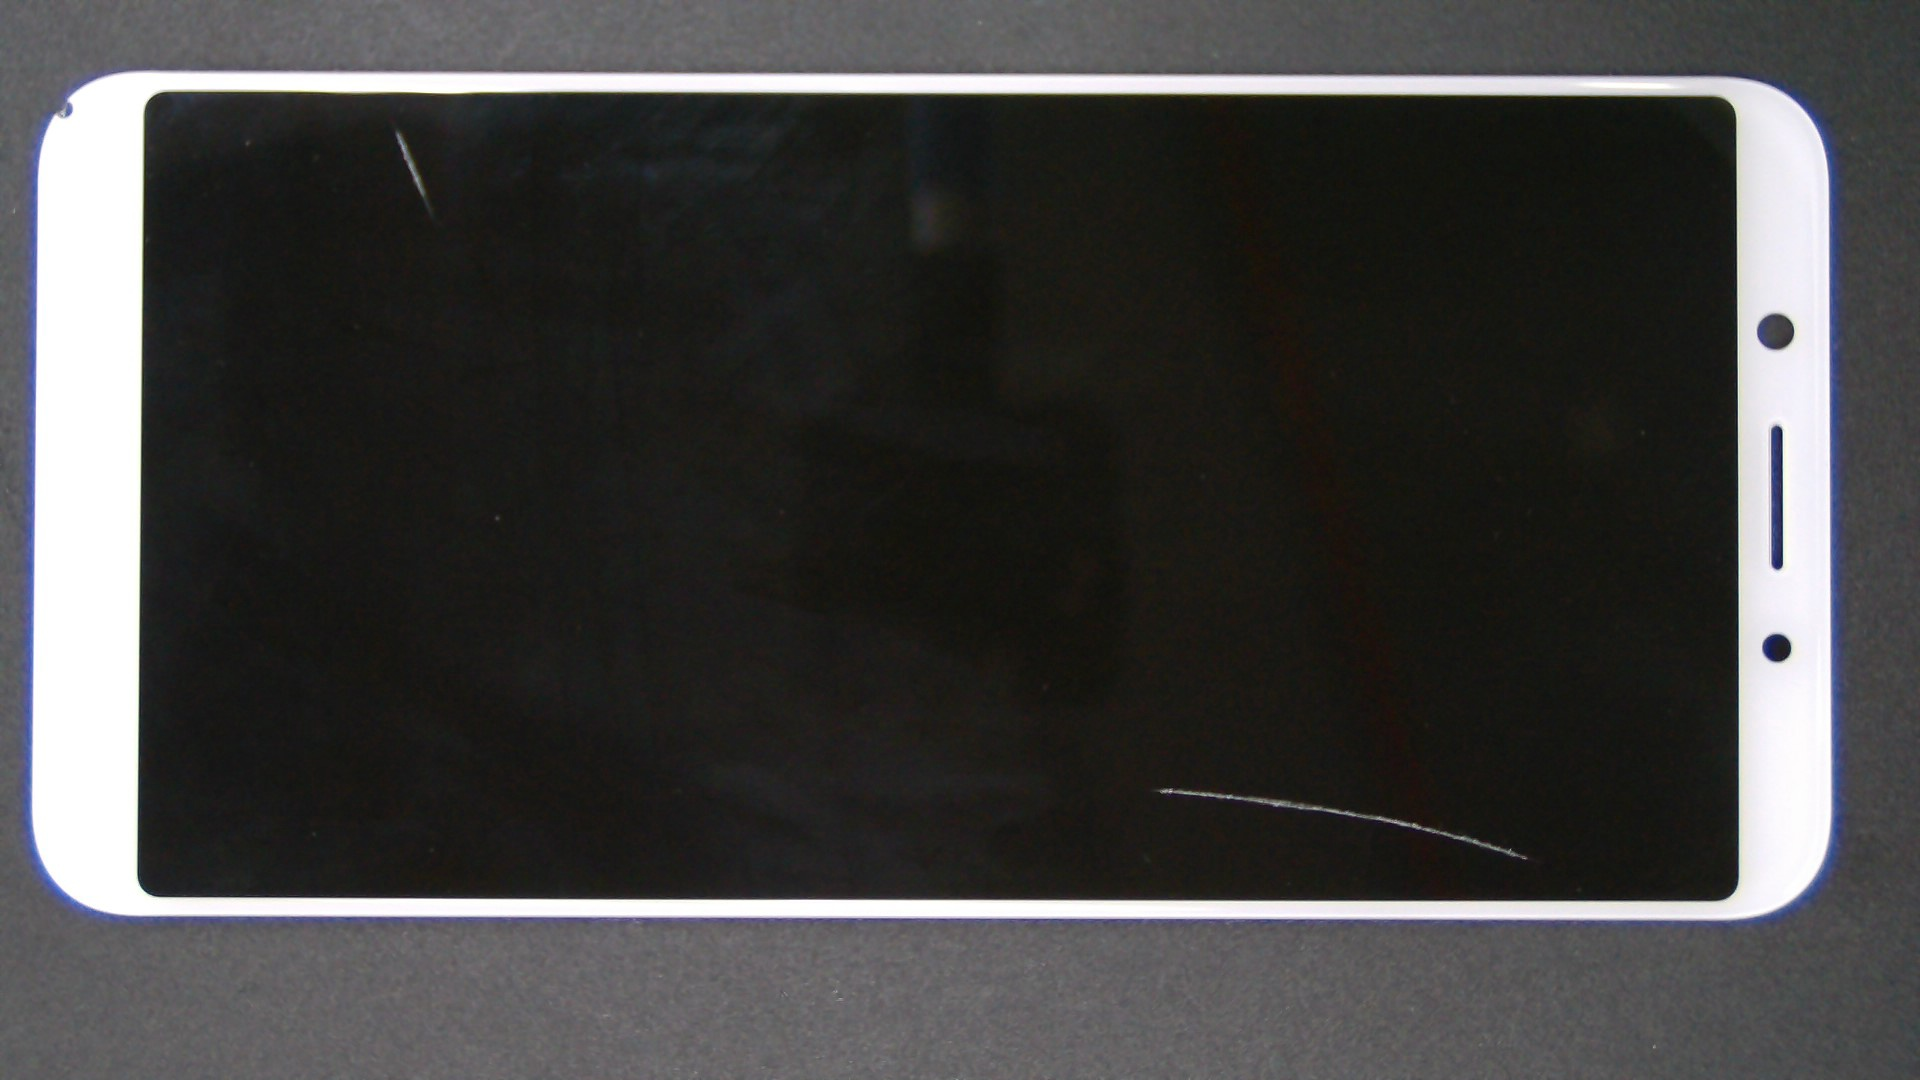oil: (583, 393, 1745, 1080), (199, 65, 596, 194)
